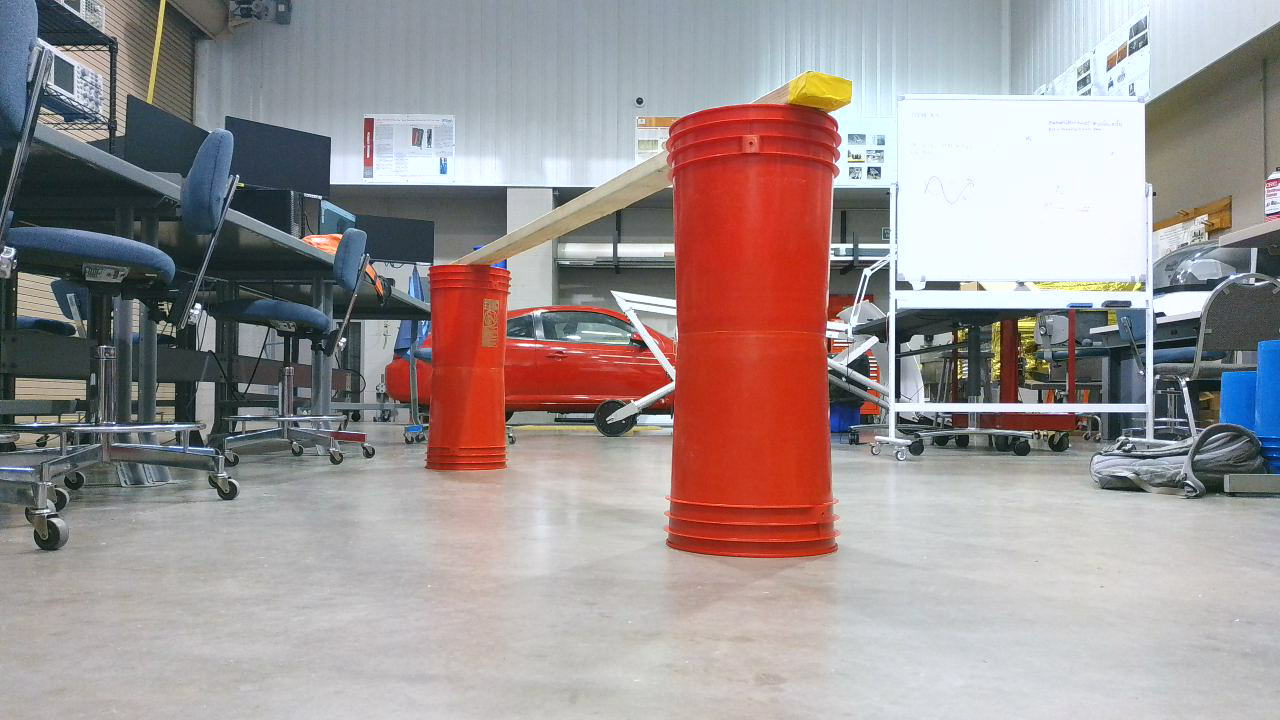red_bucket_arch: (425, 70, 863, 569)
